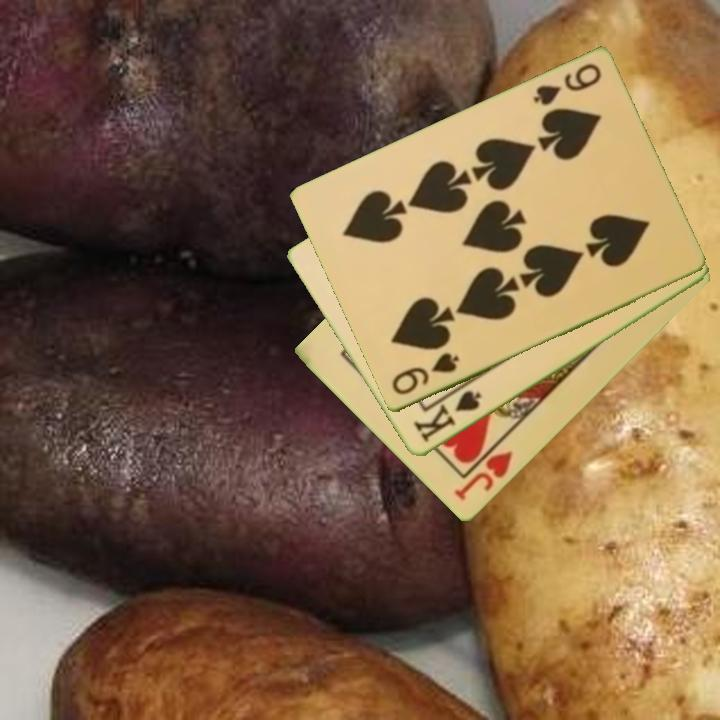9s: (529, 60, 604, 110), (388, 349, 462, 399)
Jh: (450, 434, 516, 504)
Ks: (410, 387, 485, 447)
